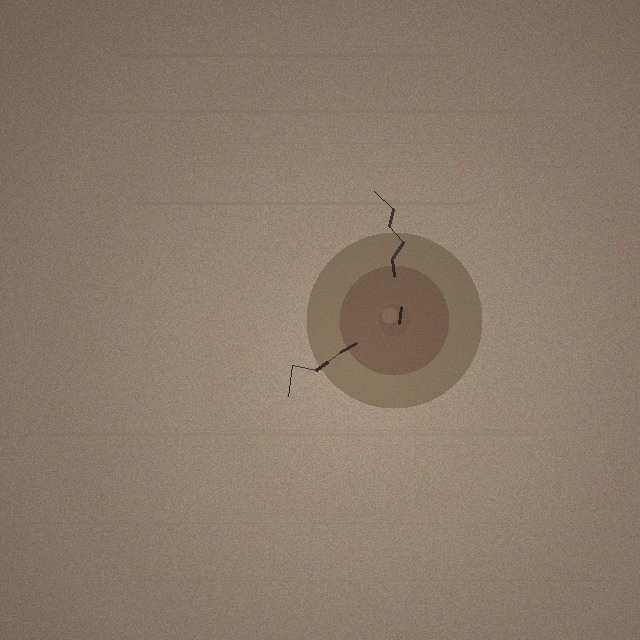crack: (306, 232, 482, 408)
